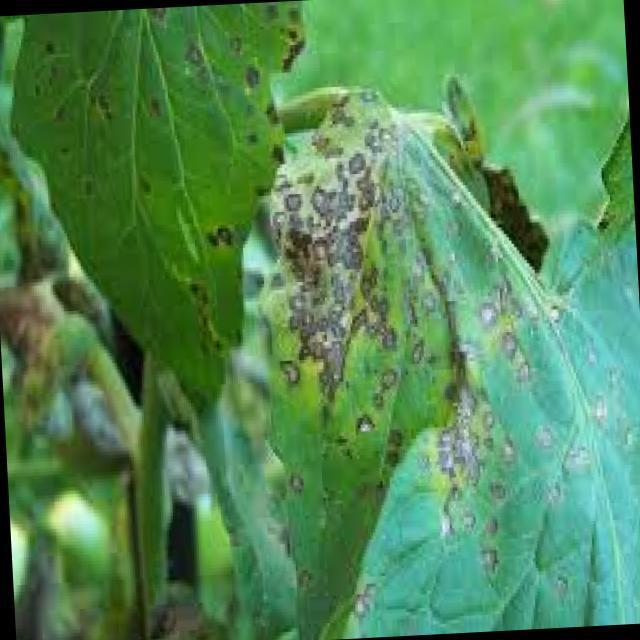Septoria: (264, 124, 442, 438), (34, 1, 308, 192), (417, 271, 566, 597)
